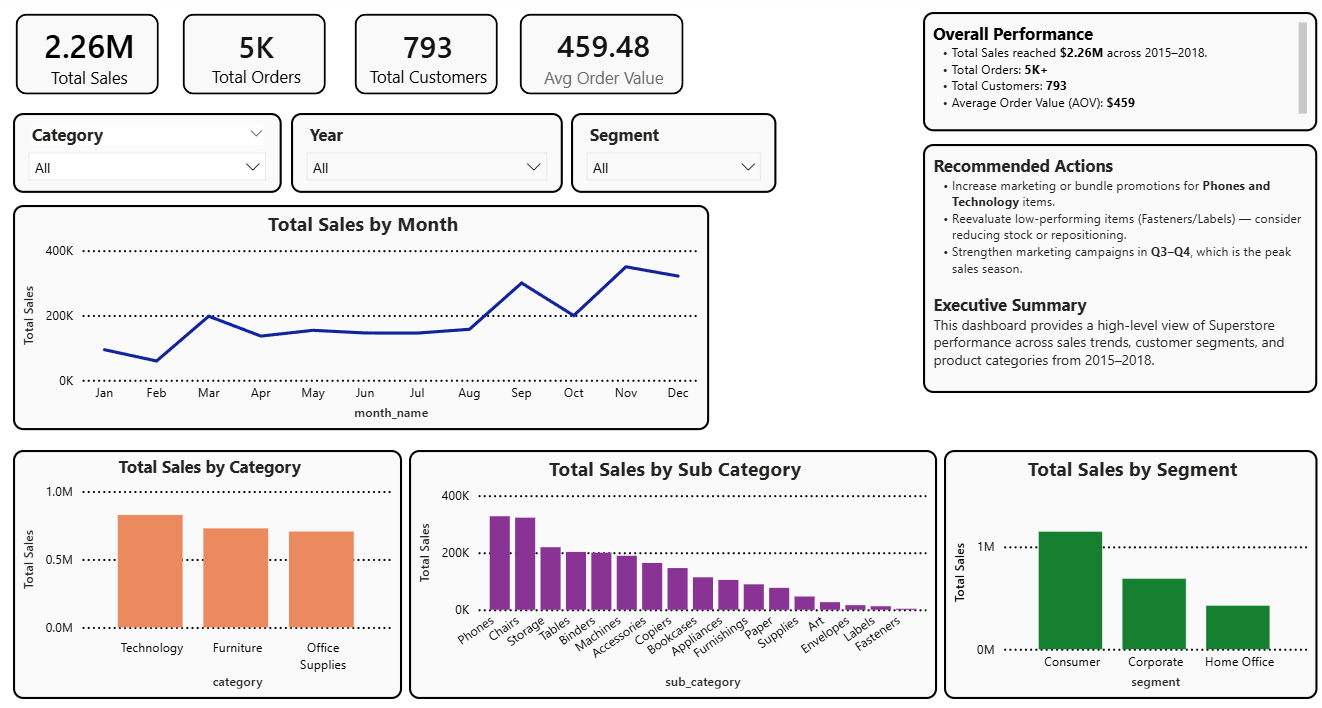

What the dashboard file says about the page in this screenshot:
{"tool":"powerbi","page":{"name":"Page 1","canvas":[1280,720],"ordinal":0},"visuals":[{"type":"cardVisual","fields":{"Data":["public fact_sales.Total Sales"]},"box":[0,0,172,112.7],"z":0},{"type":"cardVisual","fields":{"Data":["public fact_sales.Total Orders"]},"box":[161.3,0,172,112.7],"z":1000},{"type":"cardVisual","fields":{"Data":["public dim_customer.Total Customers"]},"box":[326.6,0,172,112.7],"z":2000},{"type":"cardVisual","fields":{"Data":["public fact_sales.Avg Order Value"]},"box":[486,0,192.4,112.7],"z":3000},{"type":"lineChart","title":"Total Sales by Month","fields":{"Y":["public fact_sales.Total Sales"],"Category":["public dim_date.month_name"]},"box":[14.6,201.3,671.1,216.9],"z":4000},{"type":"columnChart","title":"Total Sales by Category","fields":{"Y":["public fact_sales.Total Sales"],"Category":["public dim_product.category"]},"box":[14.5,437.6,374.9,240],"z":5000},{"type":"columnChart","title":"Total Sales by Segment","fields":{"Y":["public fact_sales.Total Sales"],"Category":["public dim_customer.segment"]},"box":[911.8,437.6,359.5,240],"z":6000},{"type":"columnChart","title":"Total Sales by Sub Category","fields":{"Y":["public fact_sales.Total Sales"],"Category":["public dim_product.sub_category"]},"box":[396.1,437.6,508.9,240],"z":7000},{"type":"slicer","fields":{"Values":["public dim_product.category"]},"box":[14.6,112.8,258.7,76.8],"z":8000},{"type":"slicer","fields":{"Values":["public dim_date.year"]},"box":[282.1,112.8,261.6,76.8],"z":9000},{"type":"slicer","fields":{"Values":["public dim_customer.segment"]},"box":[552.5,112.8,198.4,76.8],"z":10000},{"type":"textbox","box":[891.2,15.6,380,114.7],"z":10001},{"type":"textbox","box":[891.2,142.9,380,240.1],"z":10002}]}

Visuals, with their boxes on the page's 1280x720 design canvas (x1, y1, x2, y2). These are canvas units, not pixel positions in the 1322x708 screenshot, which may show the page scaled, cropped or inside an application window:
cardVisual - public fact_sales.Total Sales: {"left": 0, "top": 0, "right": 172, "bottom": 113}
cardVisual - public fact_sales.Total Orders: {"left": 161, "top": 0, "right": 333, "bottom": 113}
cardVisual - public dim_customer.Total Customers: {"left": 327, "top": 0, "right": 499, "bottom": 113}
cardVisual - public fact_sales.Avg Order Value: {"left": 486, "top": 0, "right": 678, "bottom": 113}
"Total Sales by Month" lineChart: {"left": 15, "top": 201, "right": 686, "bottom": 418}
"Total Sales by Category" columnChart: {"left": 14, "top": 438, "right": 389, "bottom": 678}
"Total Sales by Segment" columnChart: {"left": 912, "top": 438, "right": 1271, "bottom": 678}
"Total Sales by Sub Category" columnChart: {"left": 396, "top": 438, "right": 905, "bottom": 678}
slicer - public dim_product.category: {"left": 15, "top": 113, "right": 273, "bottom": 190}
slicer - public dim_date.year: {"left": 282, "top": 113, "right": 544, "bottom": 190}
slicer - public dim_customer.segment: {"left": 552, "top": 113, "right": 751, "bottom": 190}
textbox: {"left": 891, "top": 16, "right": 1271, "bottom": 130}
textbox: {"left": 891, "top": 143, "right": 1271, "bottom": 383}
